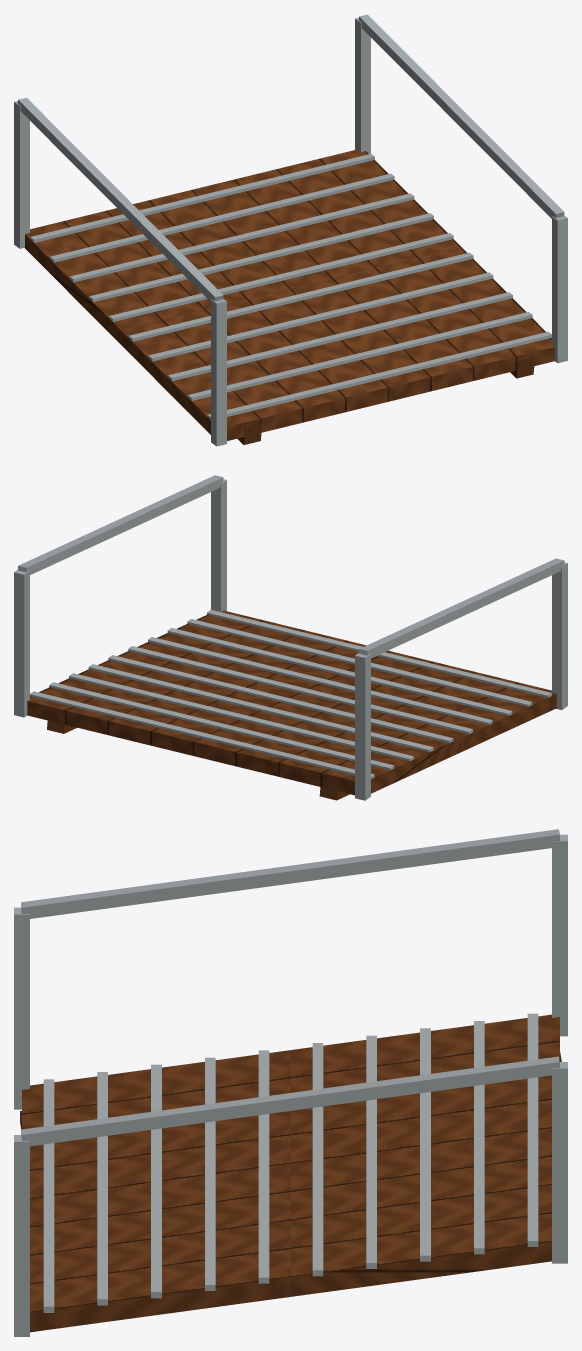
Rendered from fortified-compound-expansion-inspection-drawbridge-ad278097__27110.glb.
3 views of the same model, one above another, from view 1: azimuth 30°, elevation 25°; view 2: azimuth 150°, elevation 25°; view 3: azimuth 270°, elevation 25° (orthographic). The views are drawn at different scales.
Parts seen in each view (by area): view 1: inspection-drawbridge; view 2: inspection-drawbridge; view 3: inspection-drawbridge.
Boxes of the visible parts, <box> form: inspection-drawbridge: <box>14,14,567,446</box>; inspection-drawbridge: <box>14,475,567,800</box>; inspection-drawbridge: <box>14,829,567,1336</box>.
Size of the model in its own units: 2.06 by 1.17 by 2.06.
2 materials, 1 textured.
